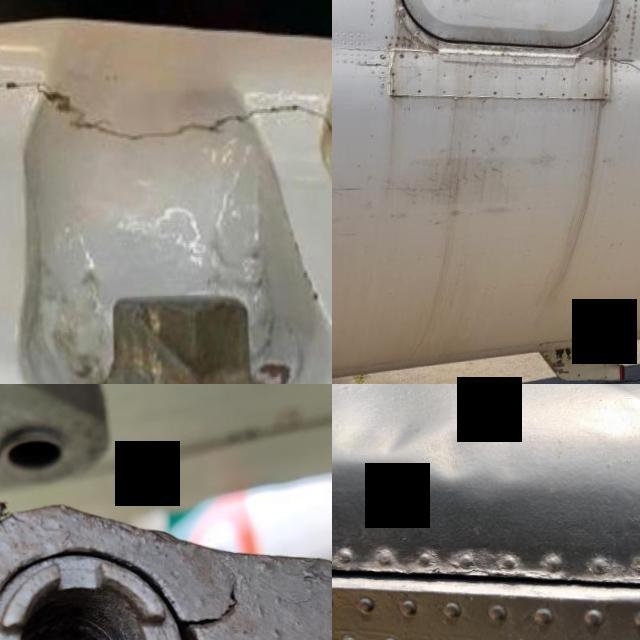Crack: (0, 69, 332, 156), (175, 579, 244, 632), (608, 55, 640, 78)
Dent: (332, 384, 477, 518)
